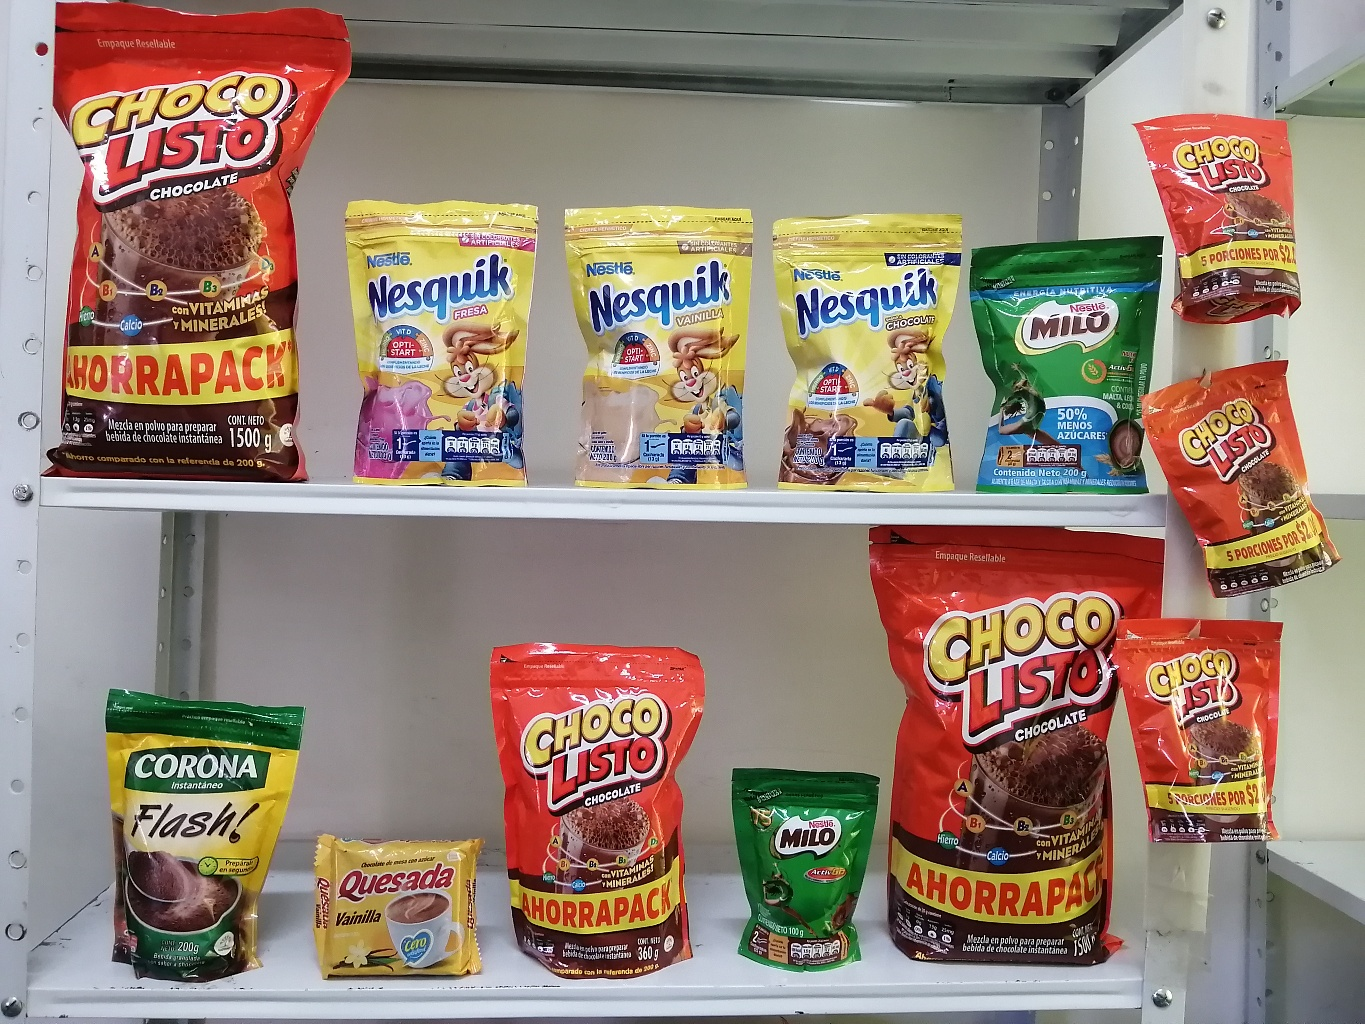COL0170103DYP1,500: (850, 516, 1170, 973)
COL0170103DYP36000: (461, 624, 720, 983)
COL0170203DYP10000: (717, 750, 888, 979)
COL0170205DYP20000: (957, 222, 1191, 504)
COL0170303DYP20000: (757, 207, 989, 496)
COL0170305DYP20000: (330, 191, 552, 504)
COL0170306DYP20000: (552, 189, 766, 498)
